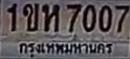0: (82, 3, 95, 31), (98, 4, 111, 31)
1: (7, 2, 16, 30)
7: (66, 3, 81, 31), (114, 4, 129, 32)
A02: (22, 2, 38, 30)
A41: (42, 3, 59, 31)
BKK: (17, 39, 115, 57)
